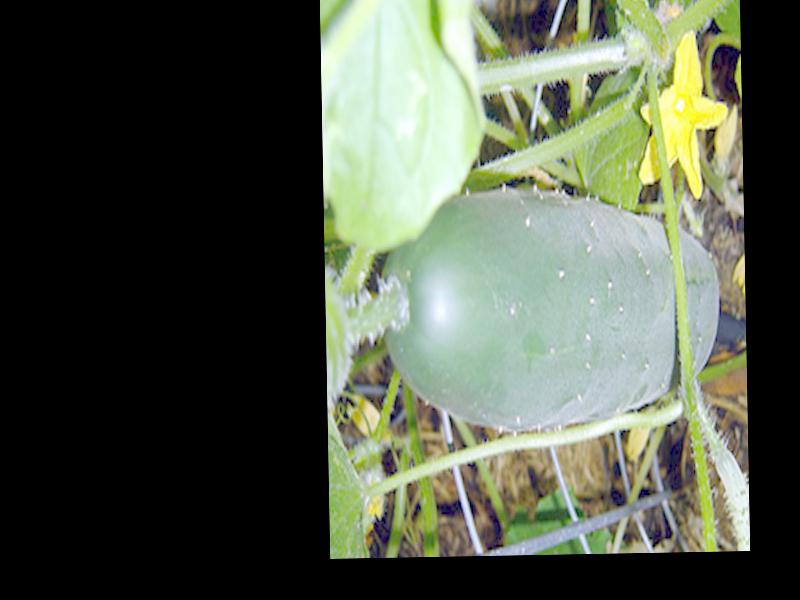Cucumber: (375, 185, 718, 431)
